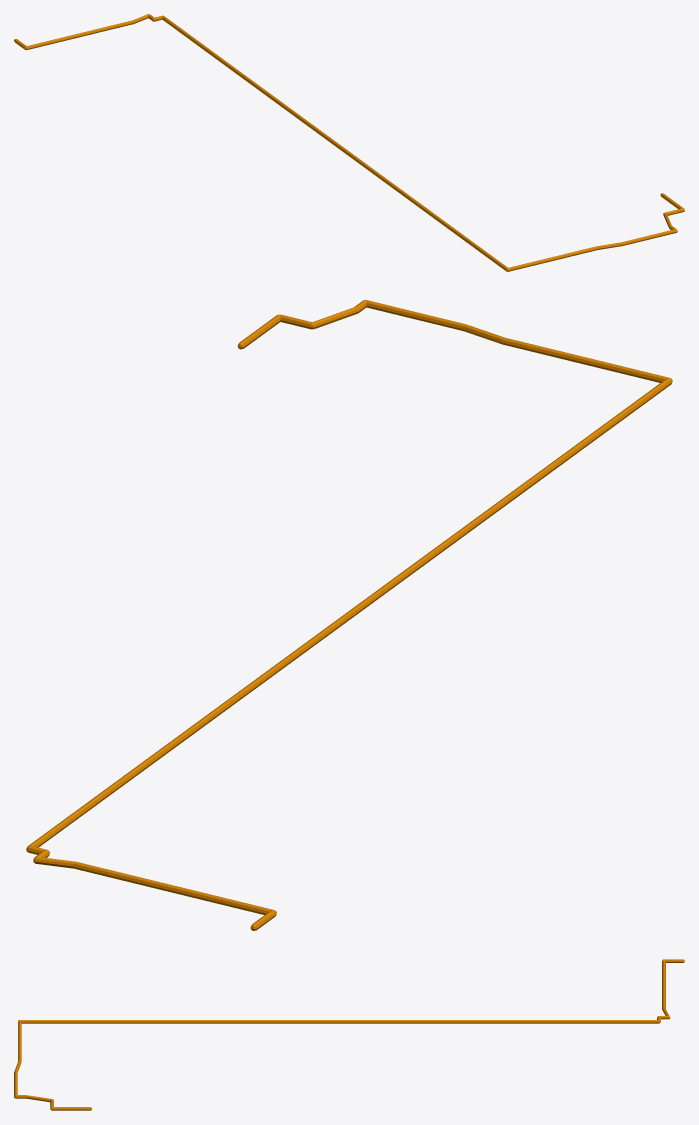
The picture shows the model from 3 angles, top to bottom: view 1: azimuth 30°, elevation 25°; view 2: azimuth 150°, elevation 25°; view 3: azimuth 270°, elevation 25°; orthographic projection. The views are drawn at different scales.
Size of the model in its own units: 1852 by 20 by 3517.
